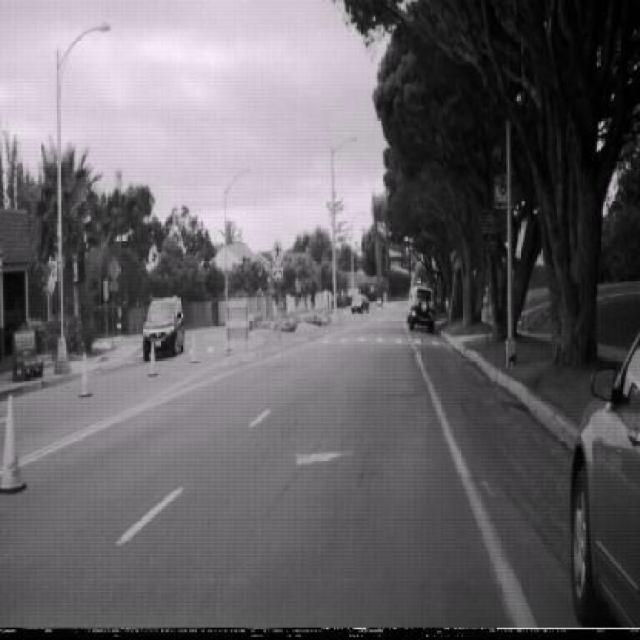pedestrianCrossing: (270, 238, 286, 270)
